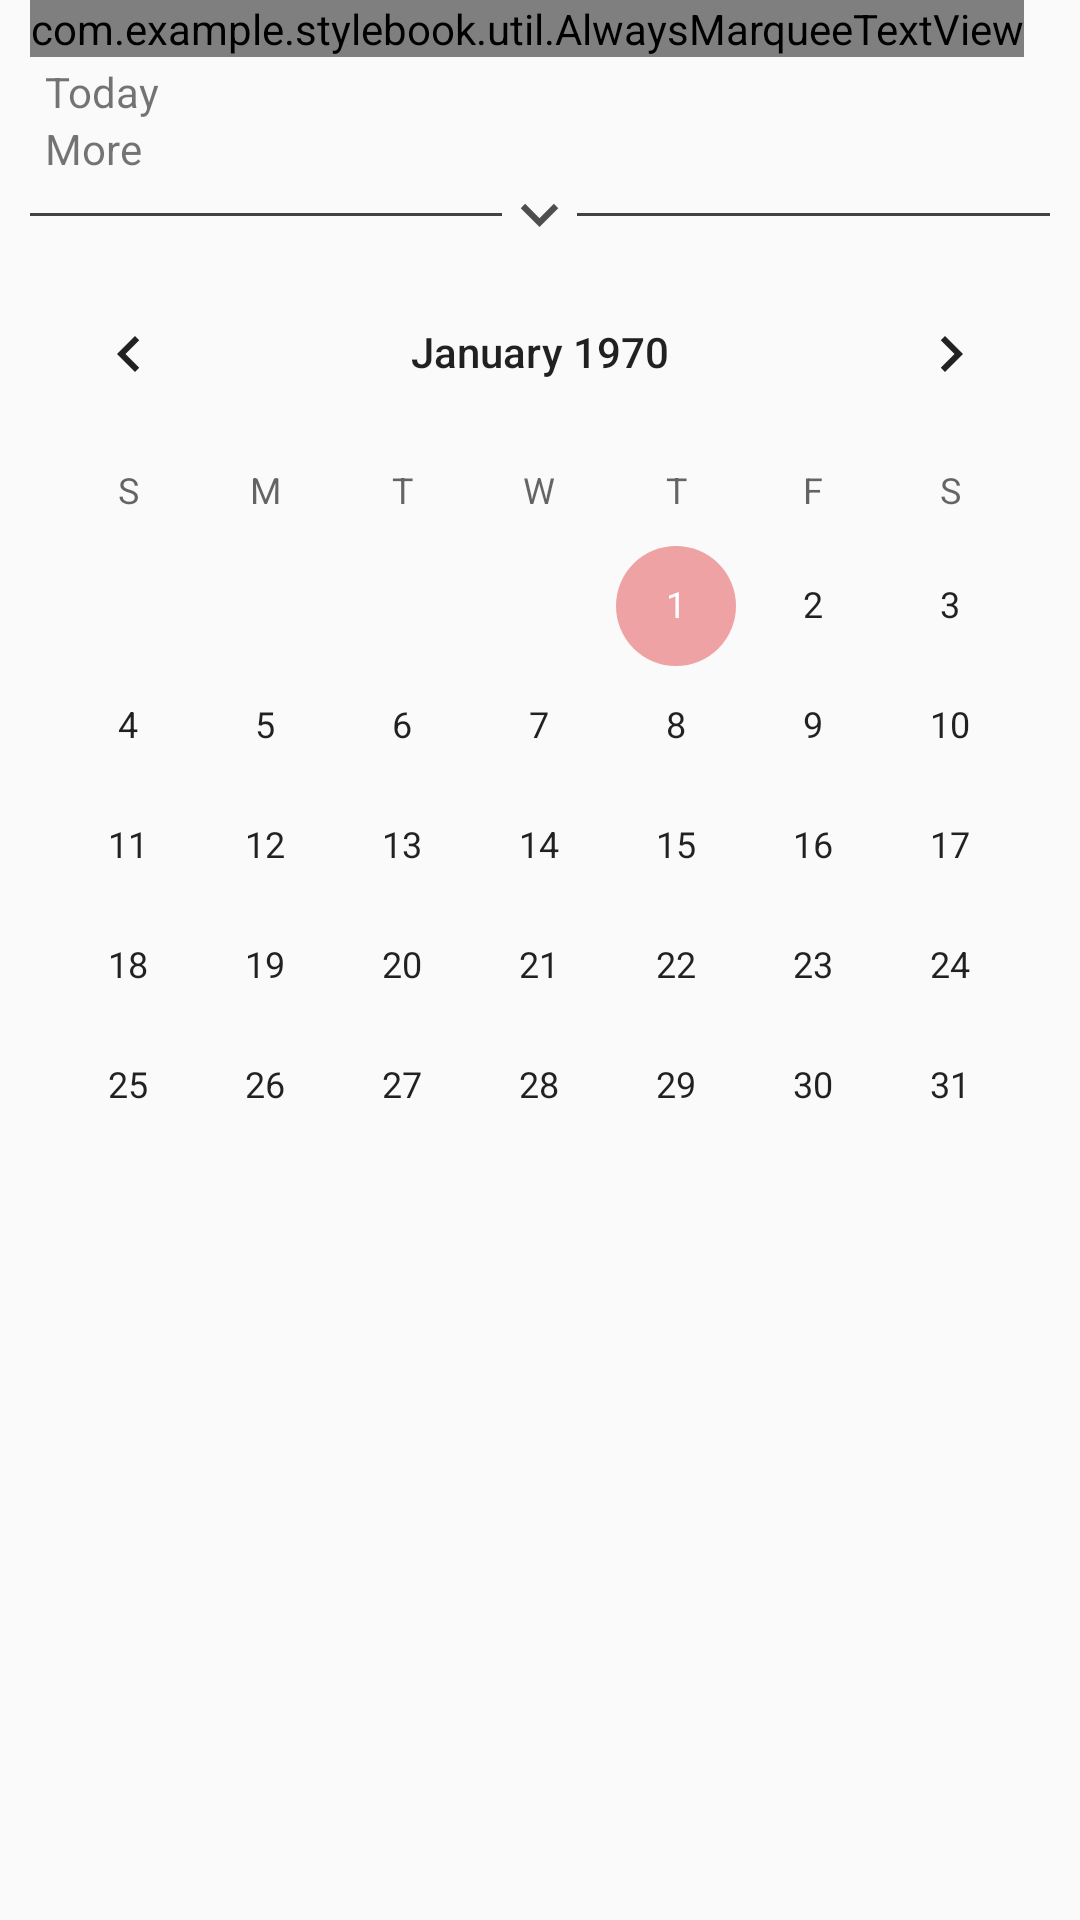

Where to tap for icons on this 1080 × 1920 app screen, as point (x, y):
expand more: point (539, 215)
